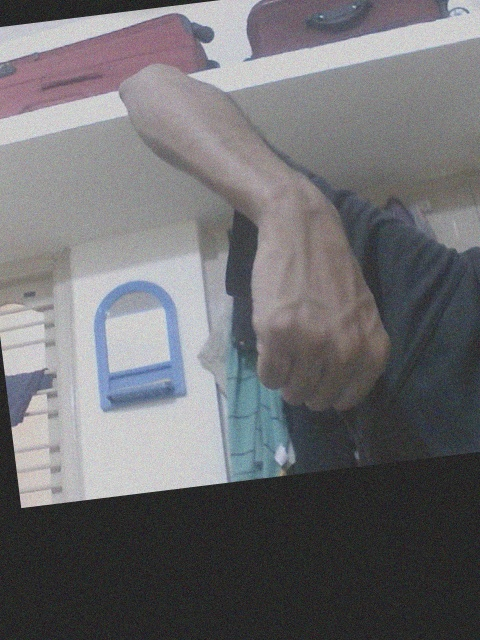hand: (246, 195, 394, 417)
